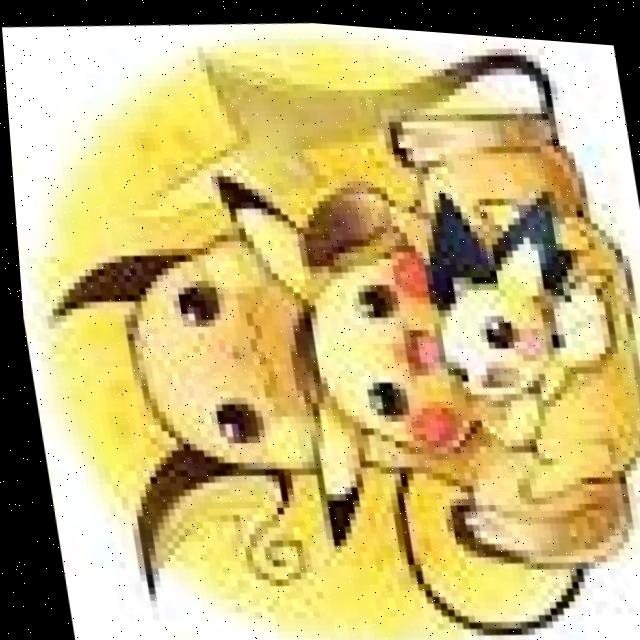pichu: (399, 180, 620, 425)
